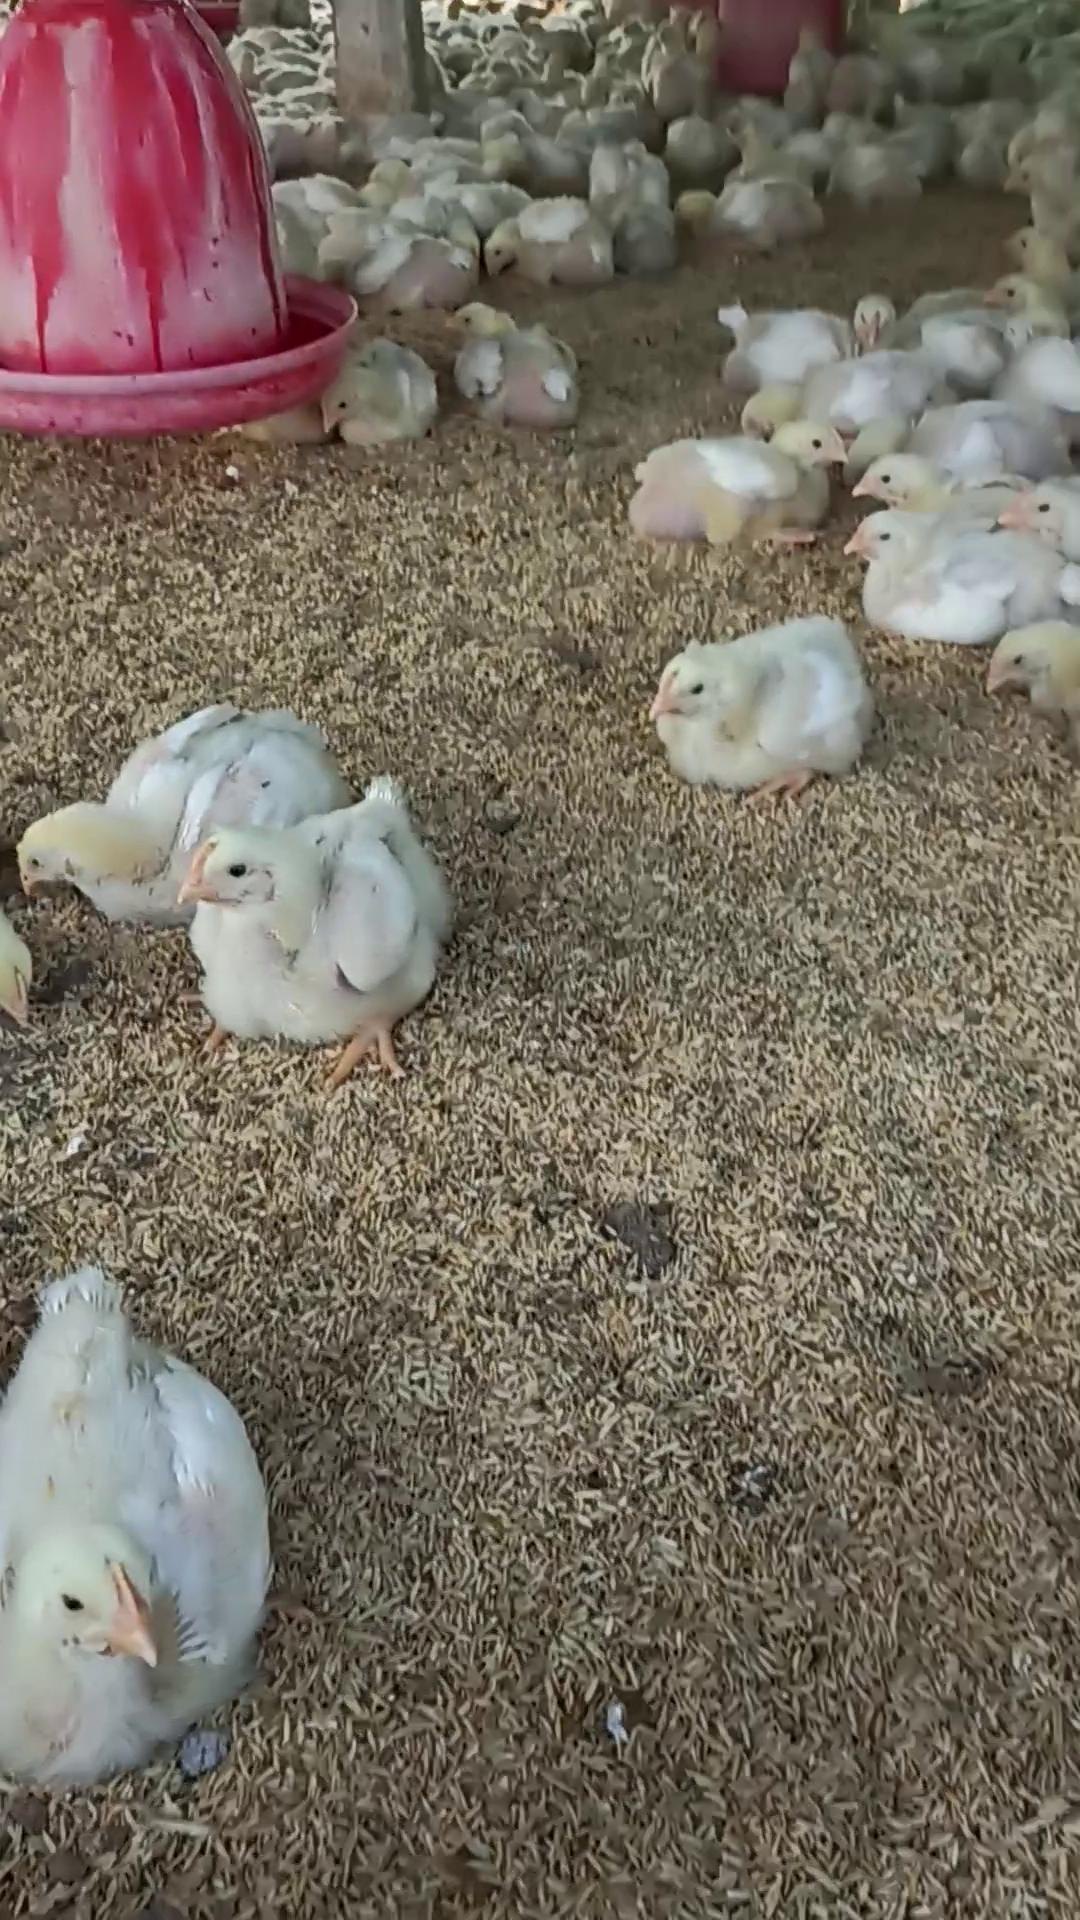Pollos: (0, 1271, 272, 1797), (171, 762, 442, 1042), (640, 615, 876, 778), (626, 417, 853, 555), (853, 505, 1058, 634), (18, 740, 175, 905), (719, 295, 898, 392), (444, 301, 585, 419), (320, 340, 433, 448), (489, 200, 615, 285)
